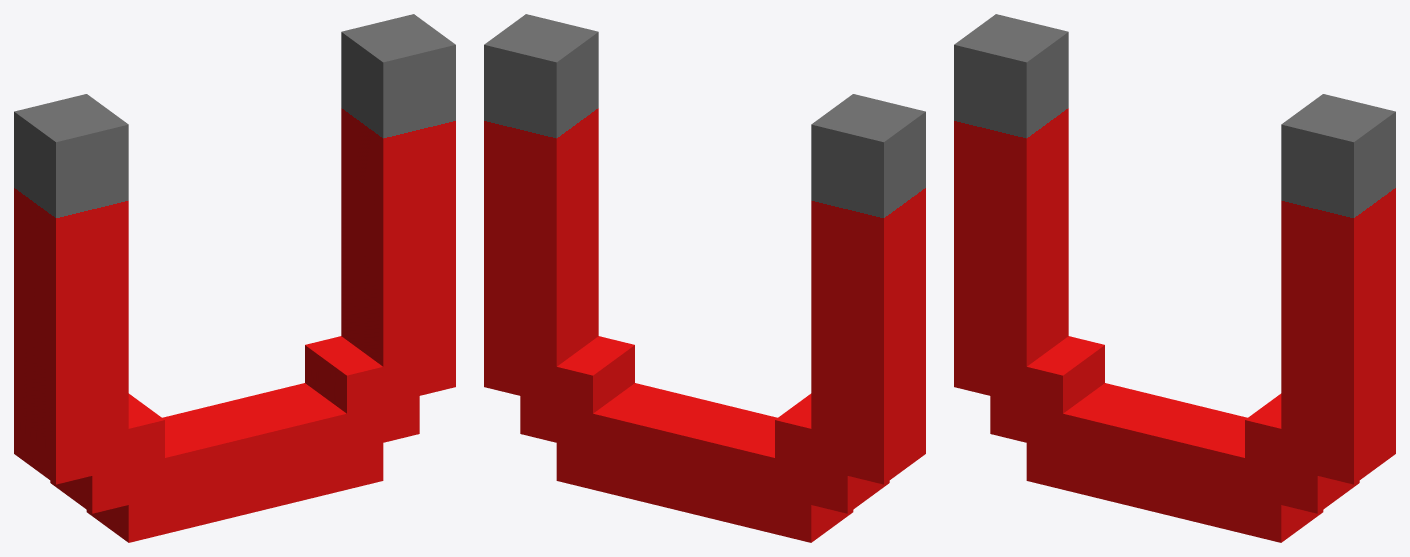
Rendered from Magnet.fbx.
3 views of the same model, side by side, from view 1: azimuth 30°, elevation 25°; view 2: azimuth 150°, elevation 25°; view 3: azimuth 330°, elevation 25° (orthographic).
Parts seen in each view (by area): view 1: Magnet; view 2: Magnet; view 3: Magnet.
Boxes of the visible parts, bbox=[...] form: Magnet: bbox=[14, 14, 455, 542]; Magnet: bbox=[484, 14, 925, 542]; Magnet: bbox=[954, 14, 1395, 542].
Bounding box in the file's own units: 11 × 11 × 2.
